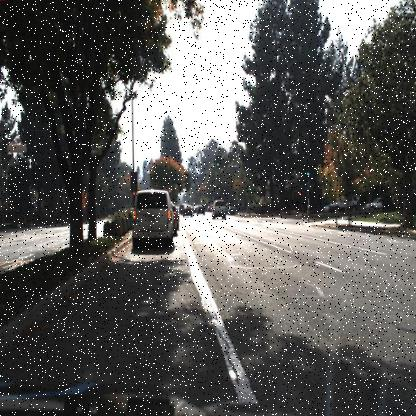car: (131, 188, 174, 248), (320, 190, 362, 216), (322, 194, 359, 210), (210, 197, 228, 223), (170, 198, 180, 239), (178, 202, 194, 219), (366, 198, 388, 210), (194, 204, 210, 220), (196, 202, 206, 217)
trafficLight-Green: (215, 150, 220, 168), (246, 180, 252, 195), (306, 167, 312, 181), (304, 163, 310, 176), (216, 155, 221, 169), (247, 186, 252, 200)
trafficLight-Red: (130, 190, 135, 205)
